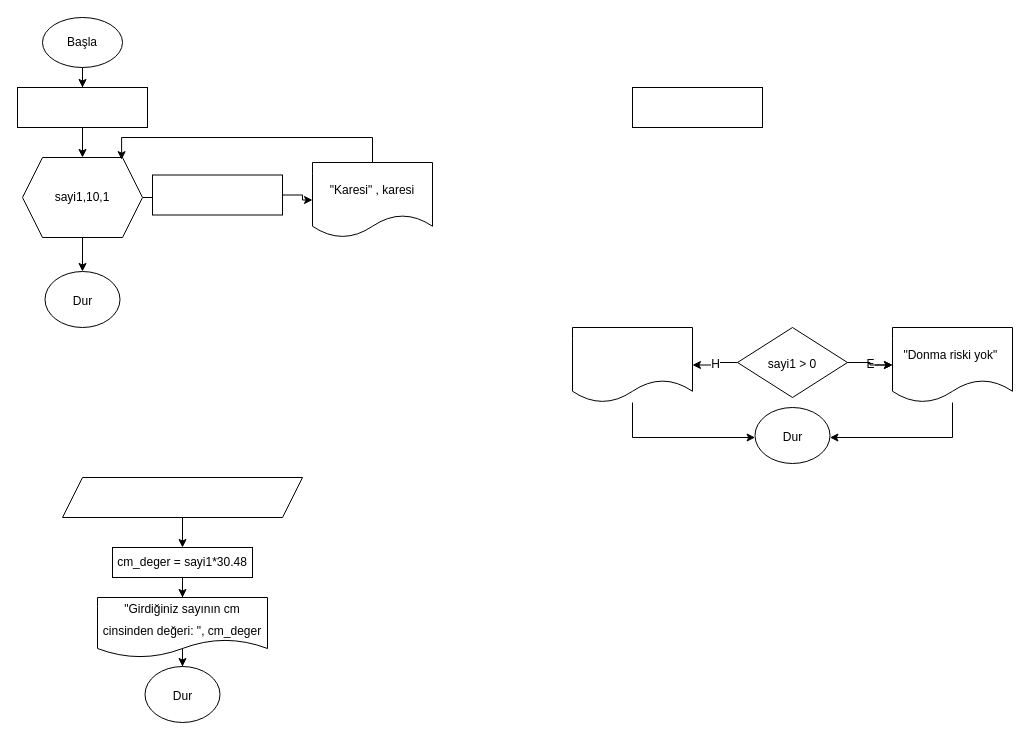
The diagram is 1030 pixels wide and 740 high, and some of its shapes have lost their labels. Each missing label, with the centre of its shape:
" Donma riski var": point 632,364
" Feet Değeri Girin:", sayi1: point 182,497
int sayi1 = 1, karesi: point 82,107
int sayi1, cm_deger: point 697,107
karesi = sayi1**2: point 217,194
